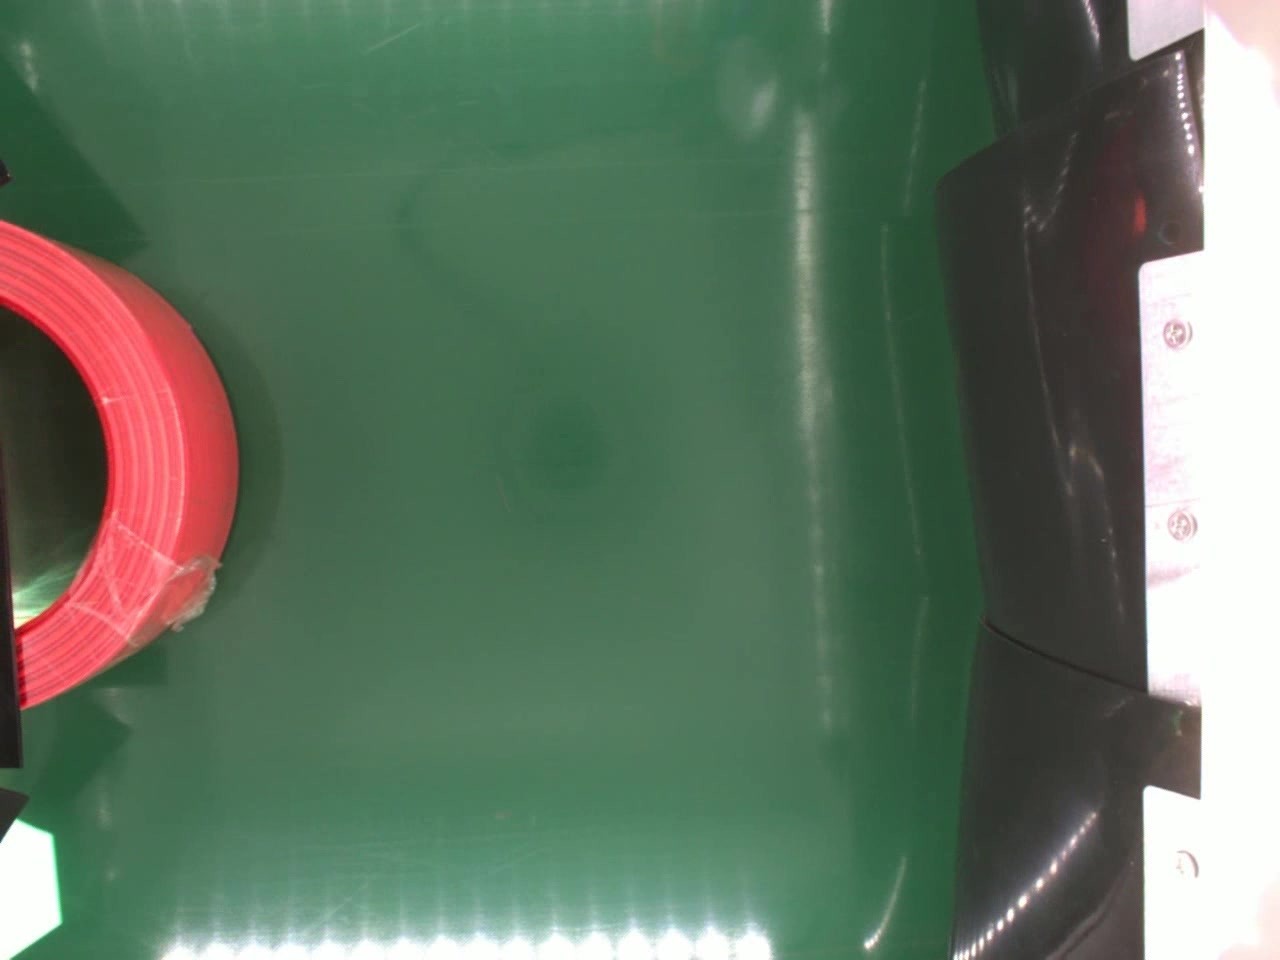red: (0, 214, 239, 711)
